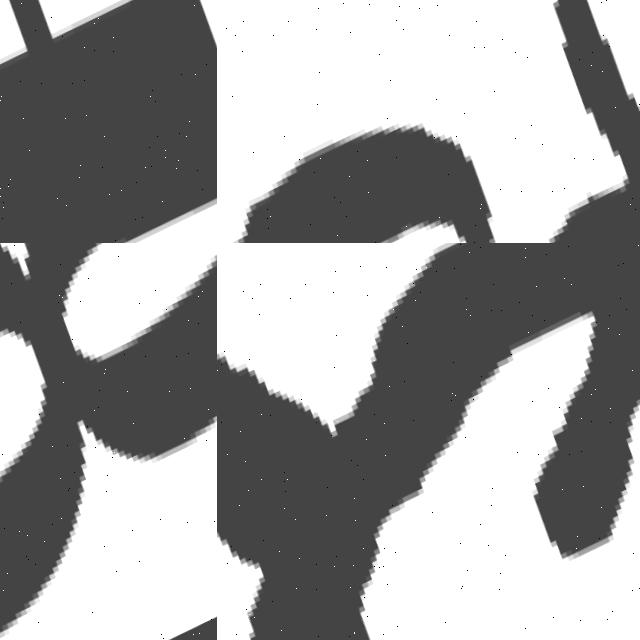2: (217, 243, 640, 640)
5: (217, 0, 640, 243)
8: (0, 243, 217, 640)
F: (0, 0, 217, 243)
